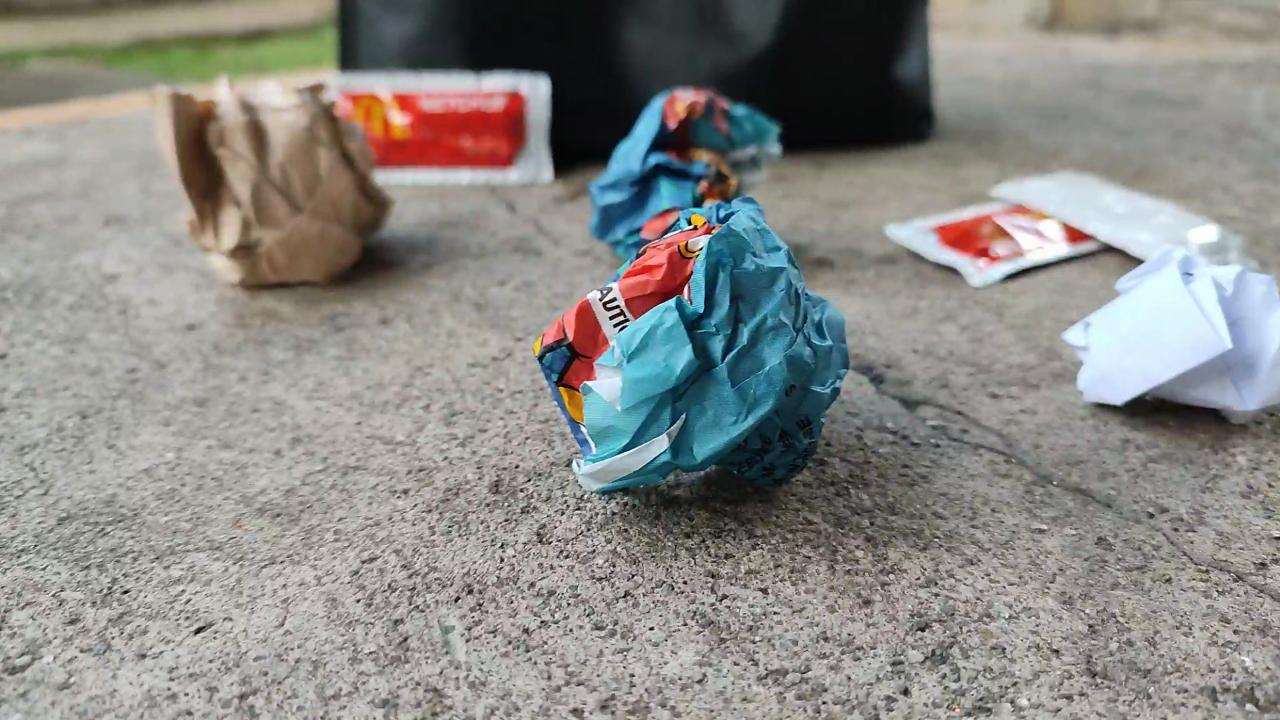Paper: (496, 187, 861, 526), (121, 69, 396, 291), (562, 60, 796, 268), (1049, 235, 1280, 440)
